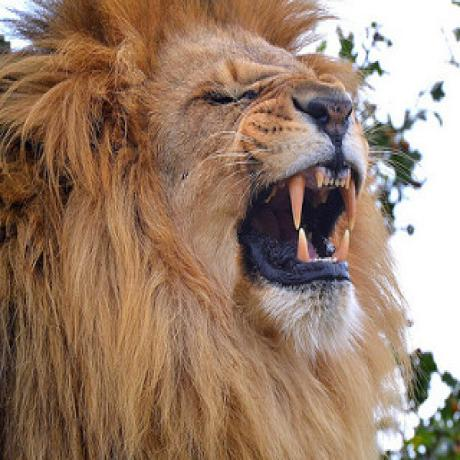Lion: (0, 0, 410, 460)
